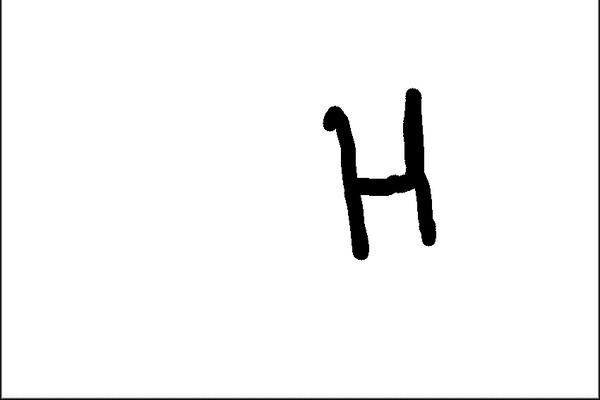H: (315, 83, 446, 266)
